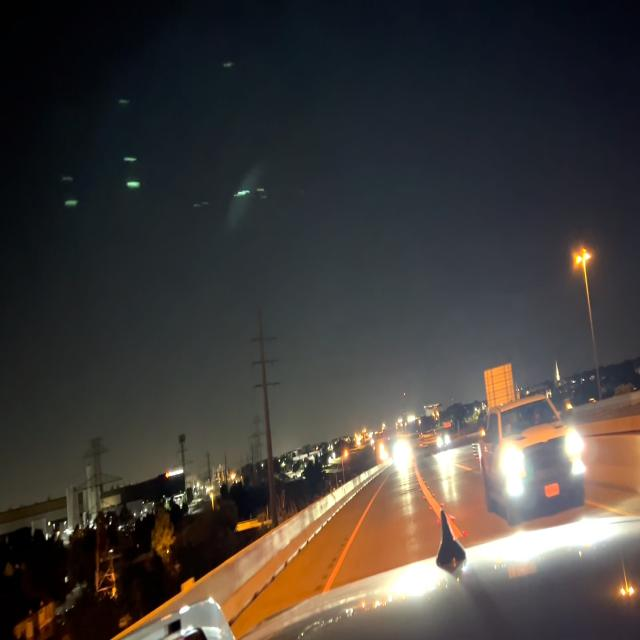back-of-sign: (485, 363, 518, 405)
